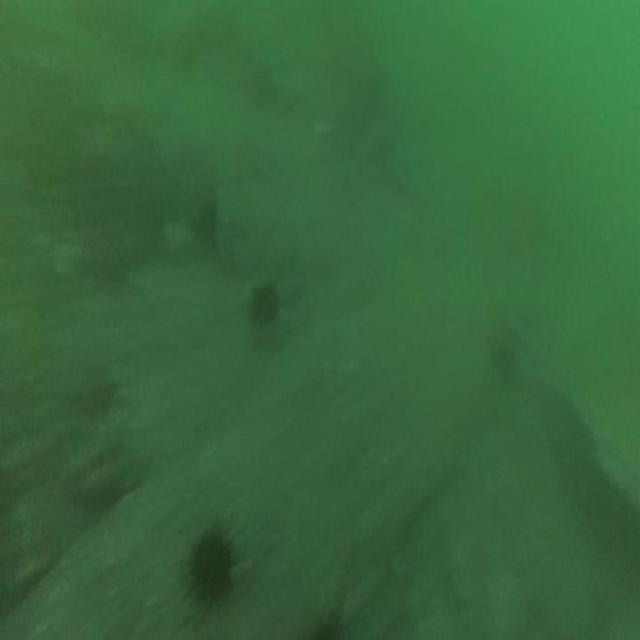echinus: (192, 536, 228, 597), (250, 288, 274, 322)
